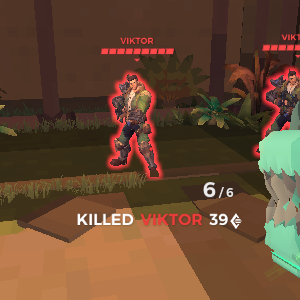model: (104, 64, 157, 185), (258, 64, 300, 130)
